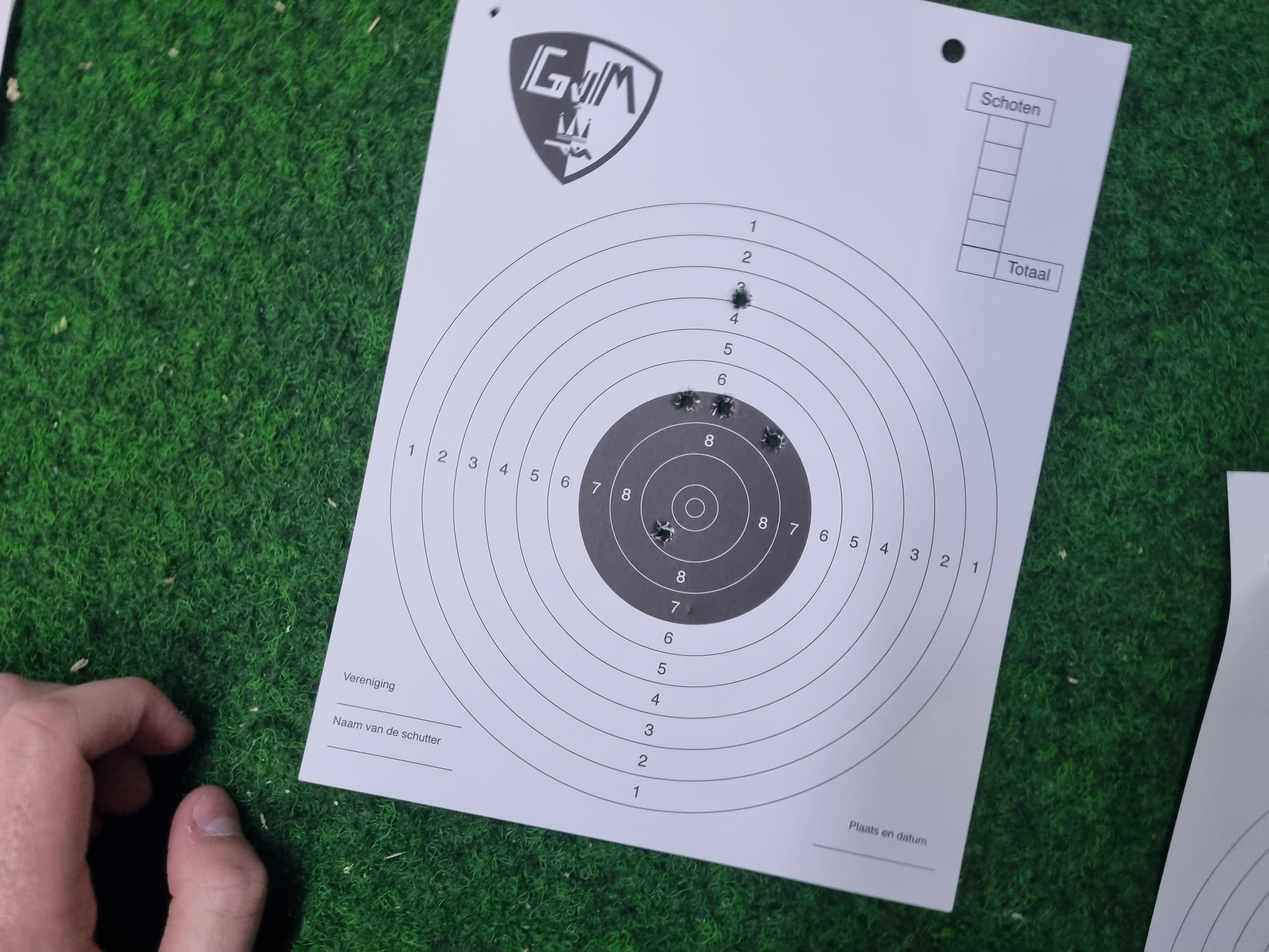hole: (660, 570, 701, 590), (710, 532, 743, 553), (718, 505, 751, 526), (542, 488, 576, 506), (857, 547, 887, 566)
